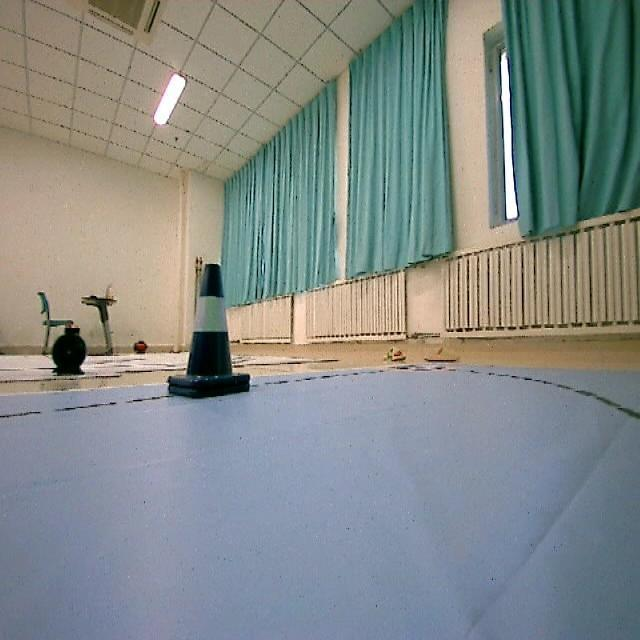obstacle: (158, 253, 254, 409)
